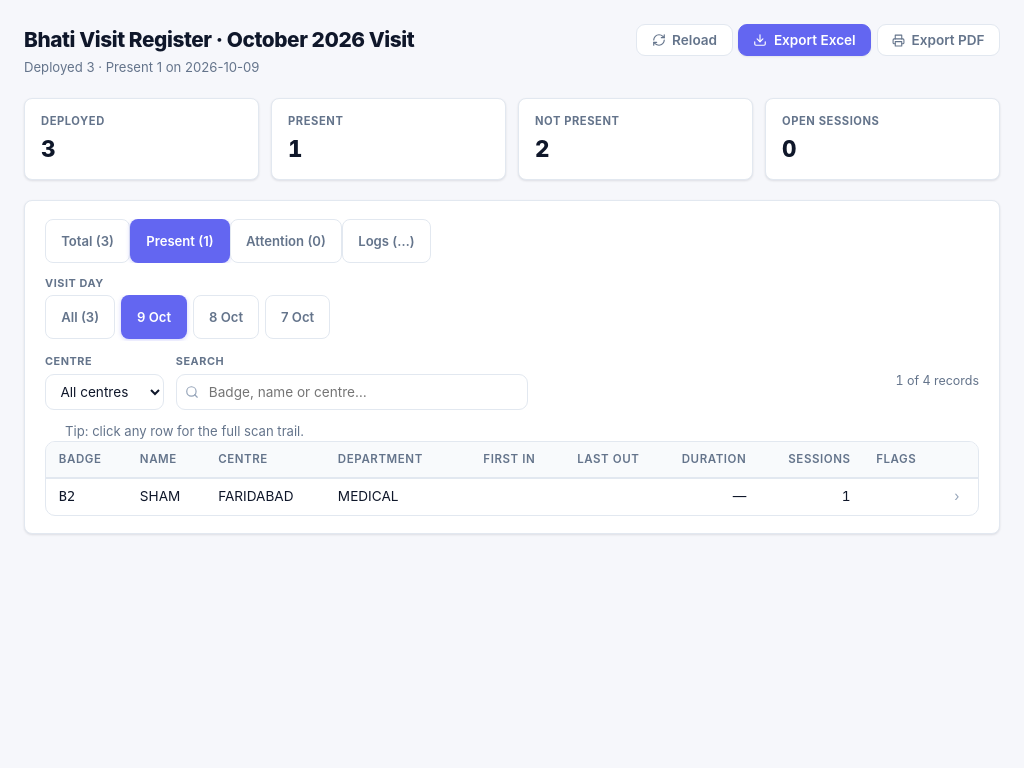
Test case: SewaView — visit mode › renders the visit register over exactly the window dates
The image size is (1024, 768).
Expected: the heading "Bhati Visit Register · October 2026 Visit" is shown, 24,24 -> 414,55
Expected: the text "Visit day" is shown, 45,276 -> 104,290
Click the button "All (3)". click: [80, 317]
box: 45,295 -> 115,339
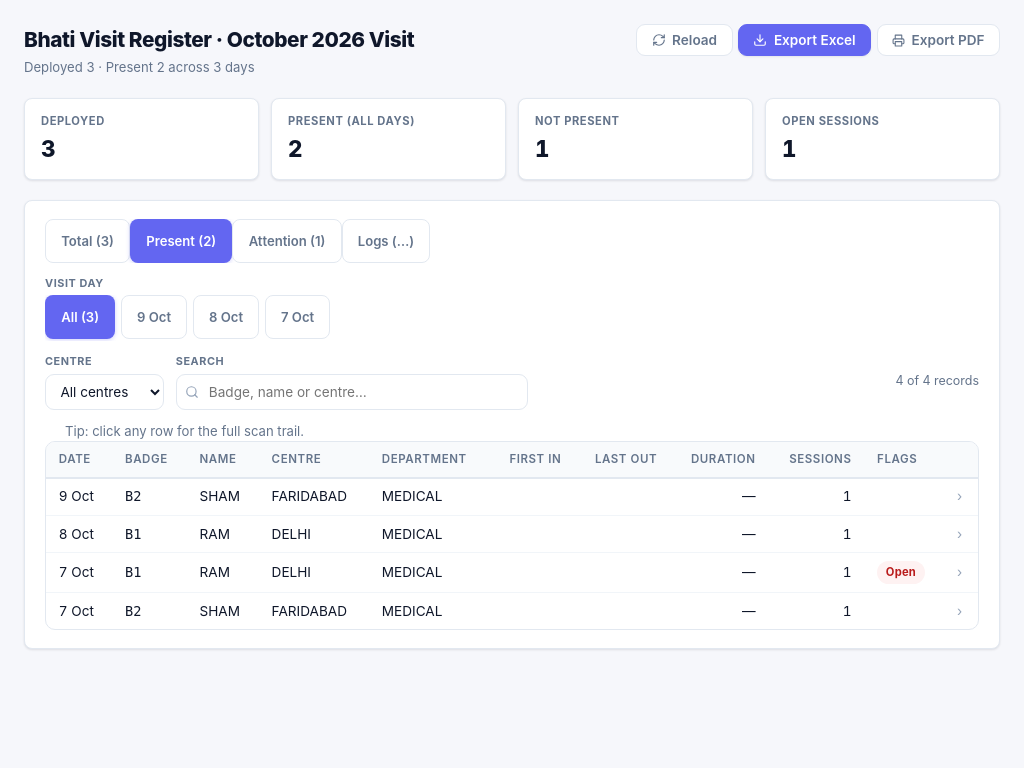
Expected: the text "RAM" is shown 2 times, 187,516 -> 259,553; 187,553 -> 259,592
